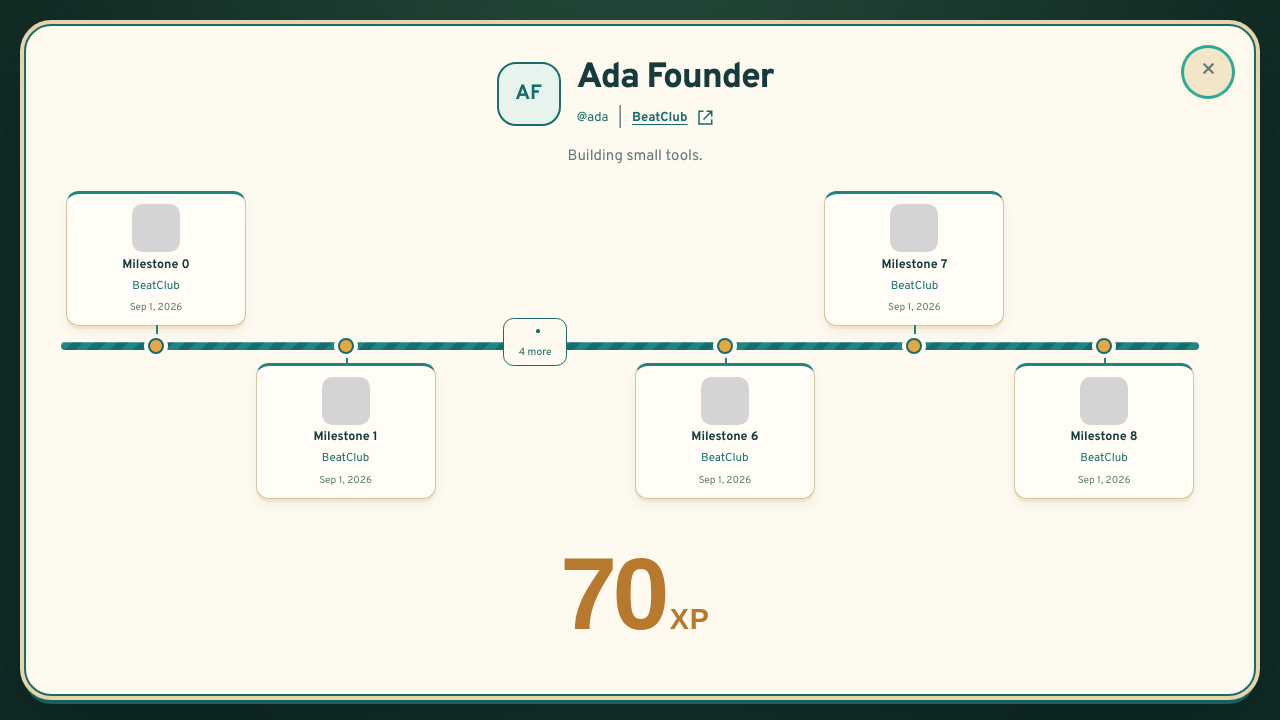
it: visitor profile › expands the gap and returns focus when collapsed
Click the button with aria-label "Show 4 more milestones" at (535, 342), box [503, 318, 567, 366]
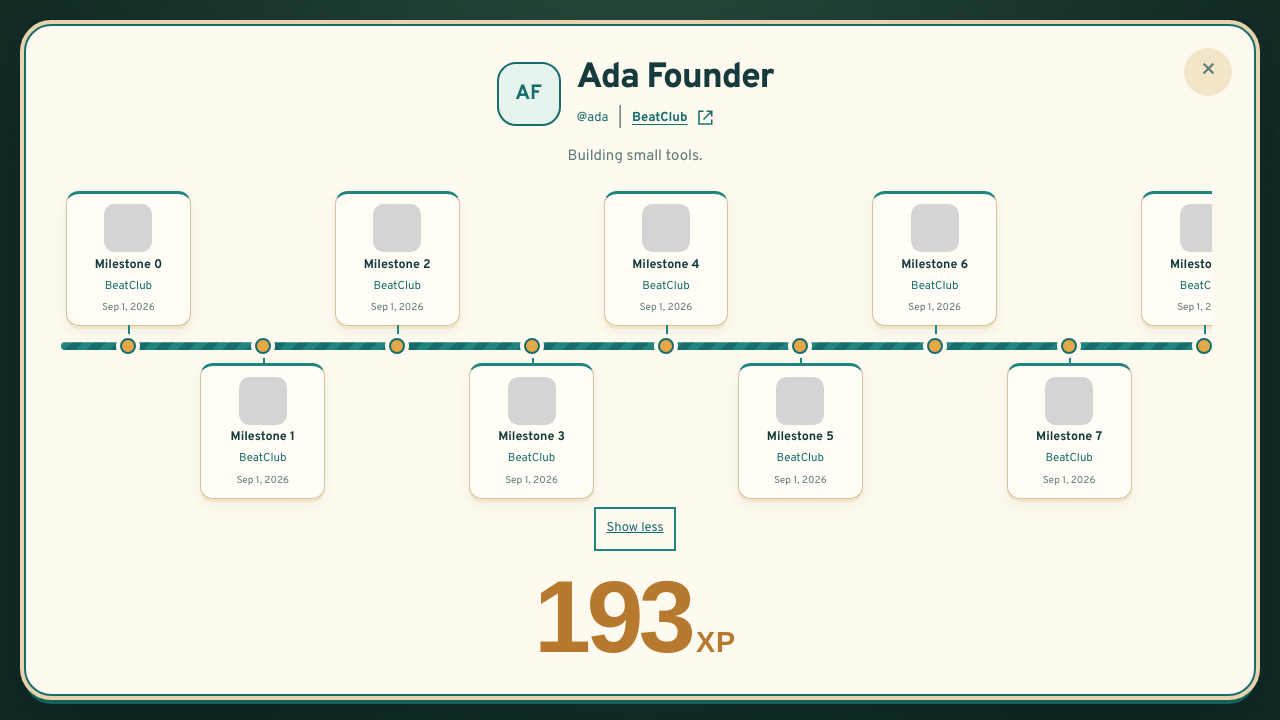
Expected: the text "Milestone 4" is shown, [632, 257, 700, 273]
Click the button "Show less" at (635, 529), box [600, 513, 670, 545]
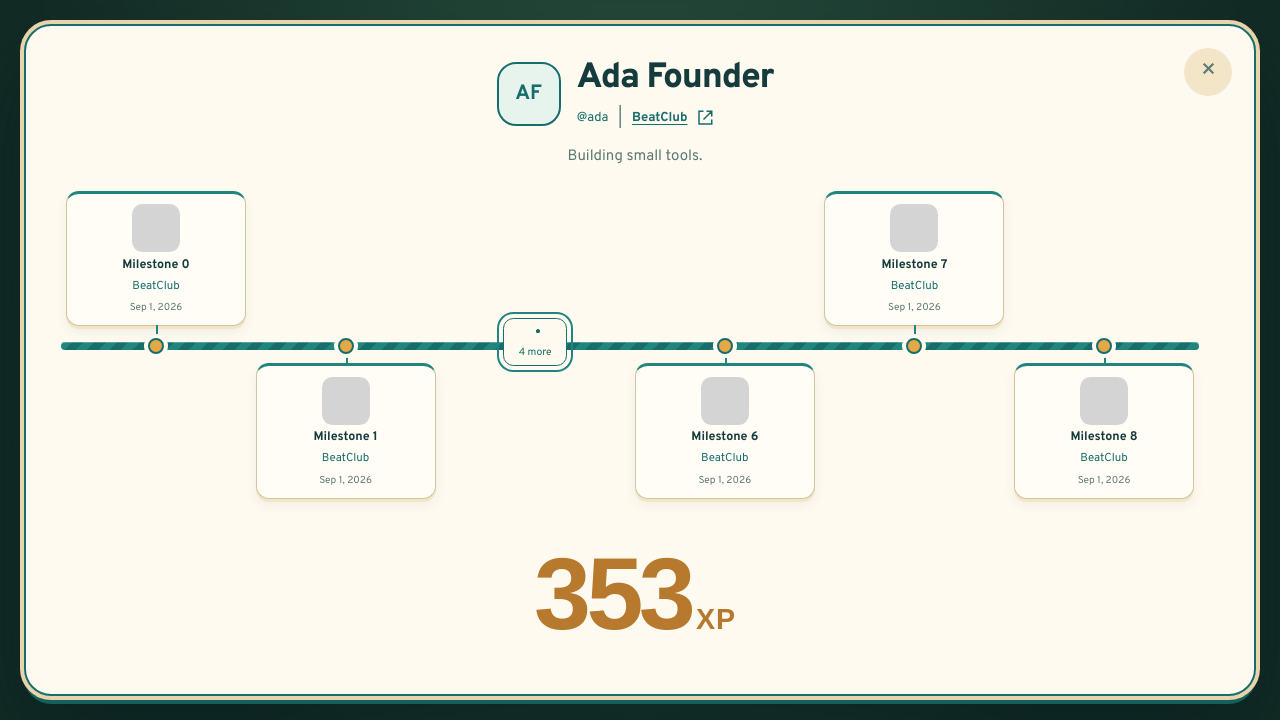
Expected: the text "Milestone 4" is gone
